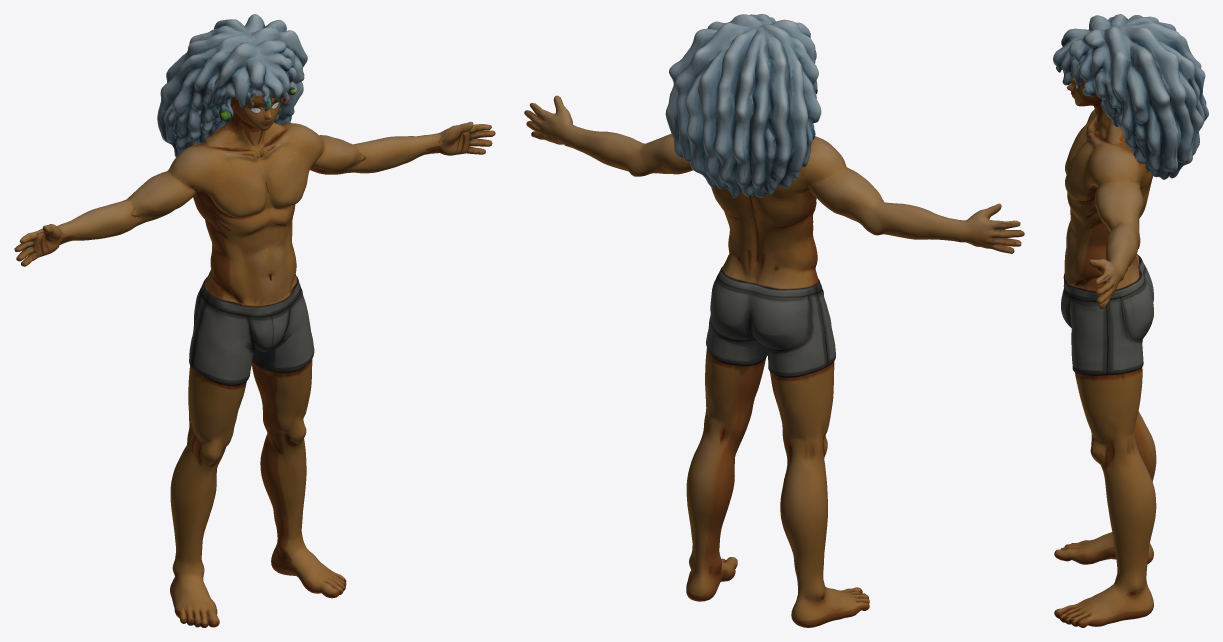
Rendered from big.glb.
3 views of the same model, side by side, from view 1: azimuth 30°, elevation 25°; view 2: azimuth 150°, elevation 25°; view 3: azimuth 270°, elevation 25° (orthographic). The views are drawn at different scales.
Visible parts, largest first — view 1: tripo_node_84caafaa-8b98-4657-8c6a-d9541d03c99f; view 2: tripo_node_84caafaa-8b98-4657-8c6a-d9541d03c99f; view 3: tripo_node_84caafaa-8b98-4657-8c6a-d9541d03c99f.
Boxes of the visible parts, <box> form: tripo_node_84caafaa-8b98-4657-8c6a-d9541d03c99f: <box>14,14,495,627</box>; tripo_node_84caafaa-8b98-4657-8c6a-d9541d03c99f: <box>524,14,1024,627</box>; tripo_node_84caafaa-8b98-4657-8c6a-d9541d03c99f: <box>1053,14,1208,627</box>.
Bounding box in the file's own units: 0.8919 × 1 × 0.2465.
1 material, 1 textured.
